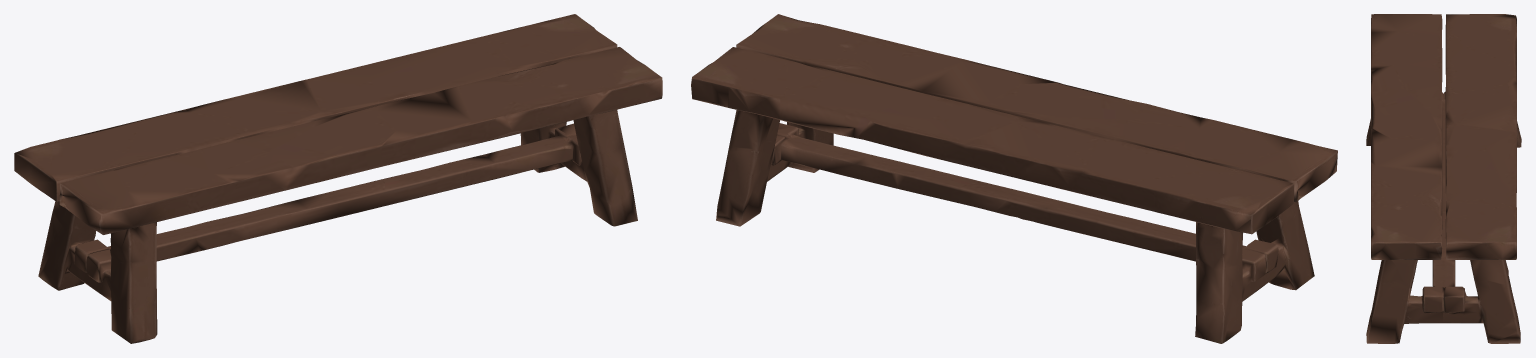
Rendered from benchHQ.glb.
3 renders of one model, left to right at view 1: azimuth 30°, elevation 25°; view 2: azimuth 150°, elevation 25°; view 3: azimuth 270°, elevation 25°, orthographic. The views are drawn at different scales.
Size of the model in its own units: 1.9 by 0.4374 by 0.5466.
Materials: 1 (1 with a texture image).
